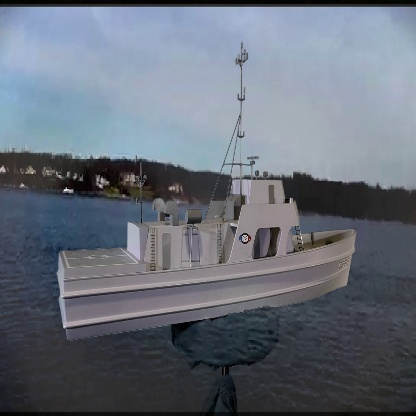YP689: (54, 41, 358, 344)
